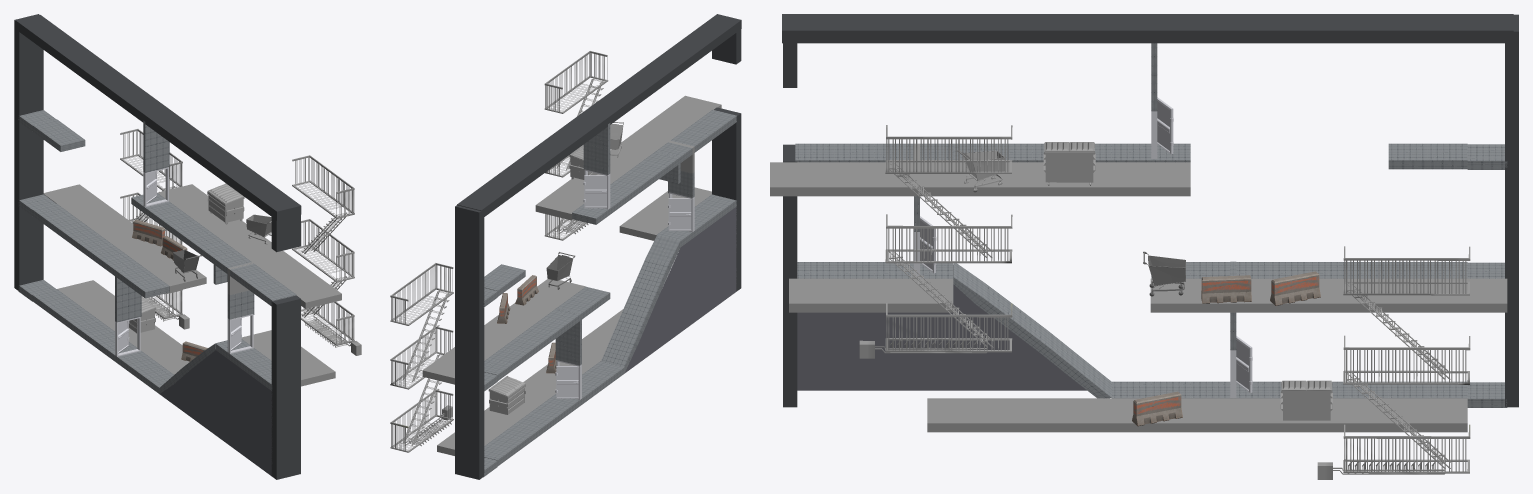
Rendered from Stage2.fbx.
3 views of the same model, side by side, from view 1: azimuth 30°, elevation 25°; view 2: azimuth 150°, elevation 25°; view 3: azimuth 270°, elevation 25° (orthographic). The views are drawn at different scales.
Visible parts, largest first — view 1: polySurface14, stage02, pPlane2, wall_def2, polySurface13, floor_def139, floor_def138, floor_def137, floor_def155, BIN2, wall9, wall7 (+39 smaller); view 2: stage02, polySurface14, wall_def2, pPlane2, floor_def139, floor_def154, floor_def138, polySurface13, floor_def137, floor_def155, door5, door8 (+36 smaller); view 3: stage02, polySurface14, pPlane2, floor_def137, floor_def139, floor_def138, floor_def155, wall_def2, floor_def154, polySurface13, BIN1, BIN2 (+14 smaller).
Part boxes in pixels (x1,y1,x2,y2): polySurface14: [16, 15, 301, 220]; stage02: [120, 129, 361, 355]; pPlane2: [159, 350, 272, 475]; wall_def2: [14, 14, 43, 290]; polySurface13: [271, 211, 300, 479]; floor_def139: [158, 184, 341, 308]; floor_def138: [43, 184, 206, 292]; floor_def137: [57, 280, 189, 374]; floor_def155: [241, 330, 335, 386]; BIN2: [207, 183, 244, 222]; wall9: [143, 141, 169, 172]; wall7: [115, 292, 141, 322]; stage02: [390, 51, 608, 452]; polySurface14: [457, 14, 741, 218]; wall_def2: [455, 205, 484, 479]; pPlane2: [624, 207, 736, 373]; floor_def139: [535, 95, 721, 220]; floor_def154: [601, 235, 680, 373]; floor_def138: [422, 279, 585, 384]; polySurface13: [712, 21, 741, 291]; floor_def137: [437, 309, 623, 455]; floor_def155: [619, 187, 711, 240]; door5: [668, 198, 693, 230]; door8: [583, 175, 608, 208]; stage02: [859, 125, 1470, 479]; polySurface14: [782, 14, 1513, 43]; pPlane2: [797, 284, 1086, 390]; floor_def137: [927, 398, 1467, 432]; floor_def139: [770, 162, 1190, 196]; floor_def138: [1150, 278, 1507, 312]; floor_def155: [789, 278, 953, 312]; wall_def2: [1505, 14, 1518, 407]; floor_def154: [953, 263, 1111, 398]; polySurface13: [783, 31, 797, 407]; BIN1: [1280, 381, 1332, 420]; BIN2: [1043, 143, 1095, 182].
Bounding box in the file's own units: 948 × 2204 × 3787.
